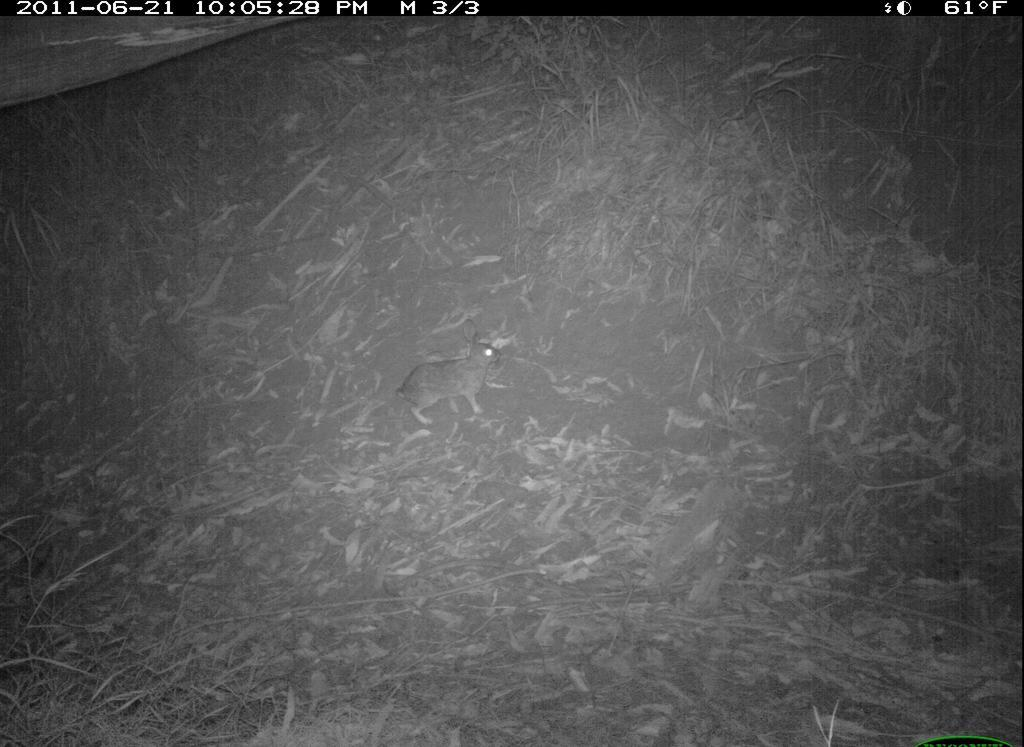rabbit: (393, 319, 506, 436)
